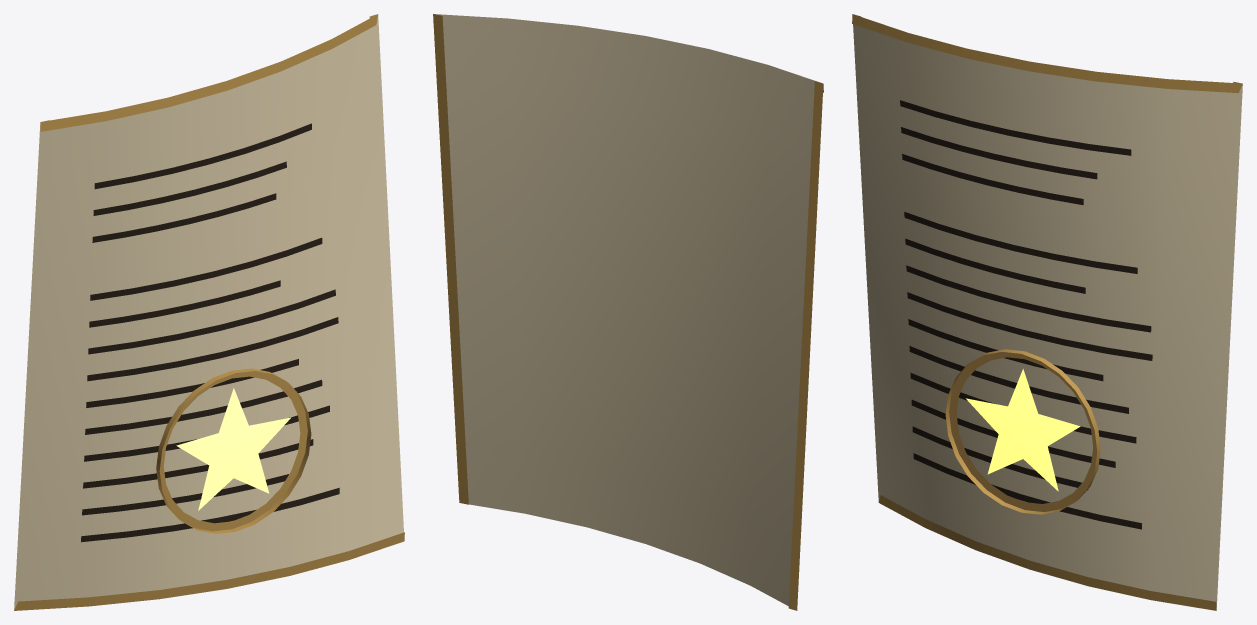
Rendered from star_page_teal.glb.
3 views of the same model, side by side, from view 1: azimuth 30°, elevation 25°; view 2: azimuth 150°, elevation 25°; view 3: azimuth 330°, elevation 25° (orthographic).
Parts seen in each view (by area): view 1: star_page_teal; view 2: star_page_teal; view 3: star_page_teal.
Part boxes in pixels (<box>): star_page_teal: <box>14,14,404,610</box>; star_page_teal: <box>433,14,823,610</box>; star_page_teal: <box>852,14,1242,610</box>.
Size of the model in its own units: 0.24 by 0.32 by 0.045.
